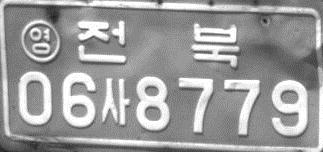0: (17, 70, 53, 126)
6: (61, 71, 96, 128)
7: (222, 79, 261, 136), (176, 77, 214, 134)
8: (134, 75, 170, 132)
9: (271, 78, 308, 137)
사: (101, 77, 131, 126)
영: (20, 18, 60, 64)
전북_D: (76, 19, 239, 67)
